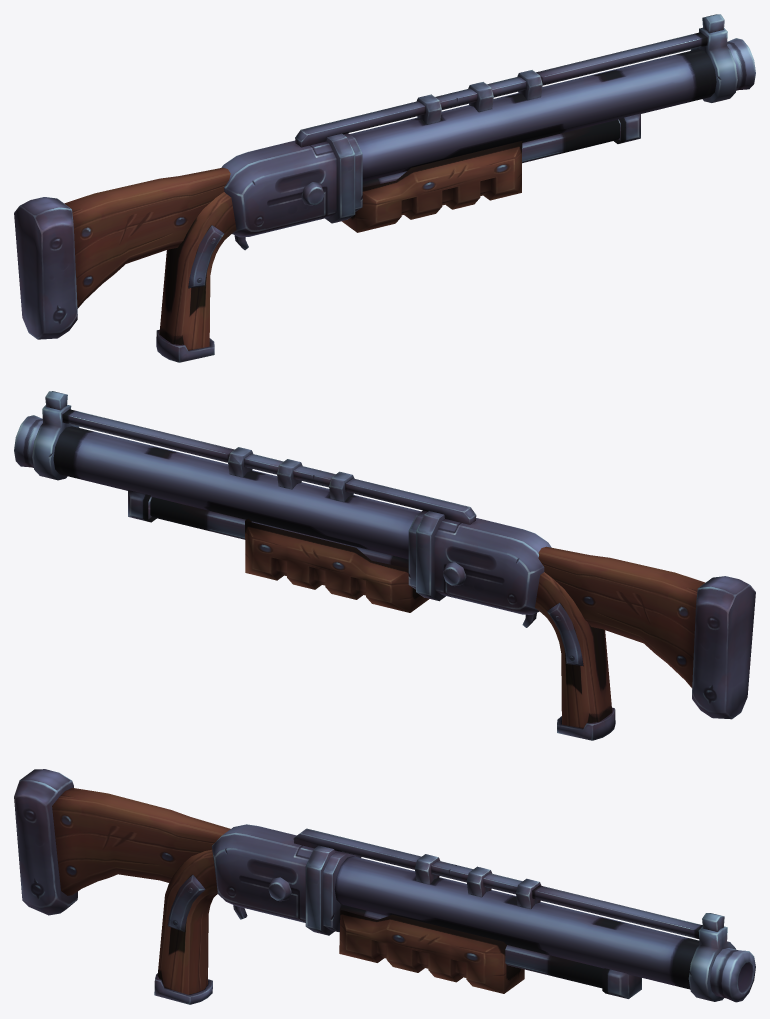
File: GunFinal.fbx
The picture shows the model from 3 angles, top to bottom: view 1: azimuth 30°, elevation 25°; view 2: azimuth 150°, elevation 25°; view 3: azimuth 330°, elevation 25°; orthographic projection.
Visible parts, largest first — view 1: Gun; view 2: Gun; view 3: Gun.
Boxes of the visible parts, x1,y1,x2,y2 form: Gun: [14, 14, 755, 362]; Gun: [14, 391, 755, 740]; Gun: [14, 769, 755, 1004].
Size of the model in its own units: 85.51 by 23.48 by 8.58.
